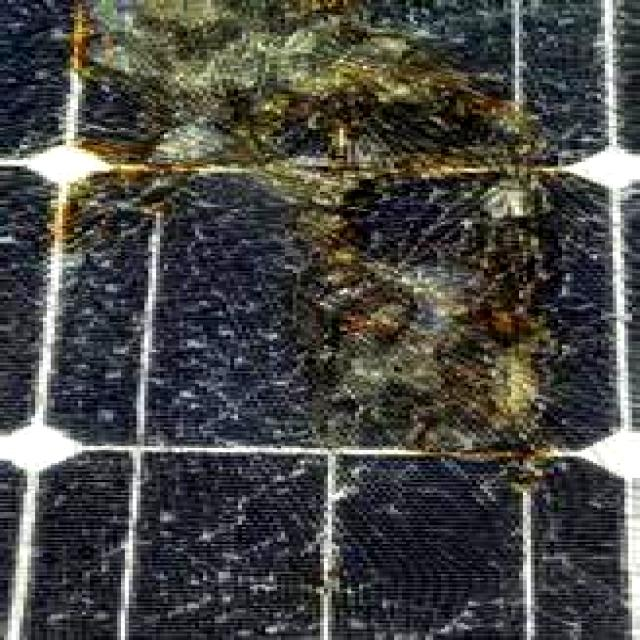shadow: (75, 192, 578, 503), (34, 0, 579, 174)
